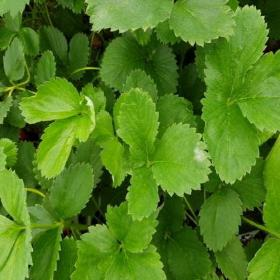Powdery Mildew Leaf: (151, 121, 213, 197), (73, 95, 96, 143)
